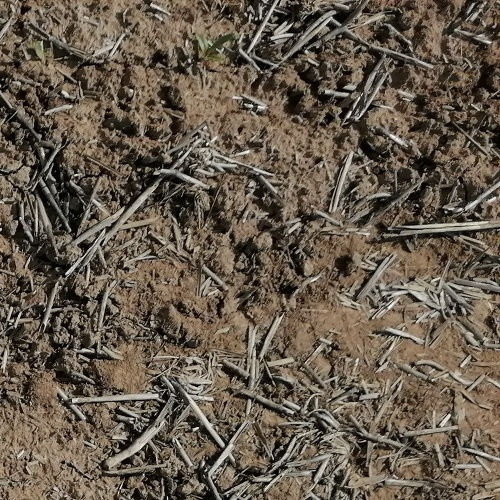beet: (196, 31, 237, 60)
